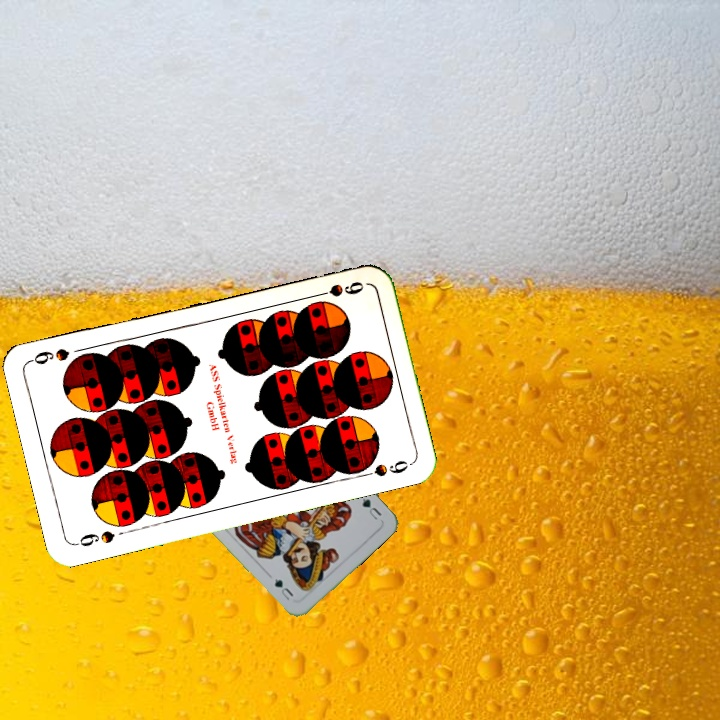GU: (358, 494, 384, 523)
S9: (309, 277, 366, 300), (71, 526, 117, 549)
